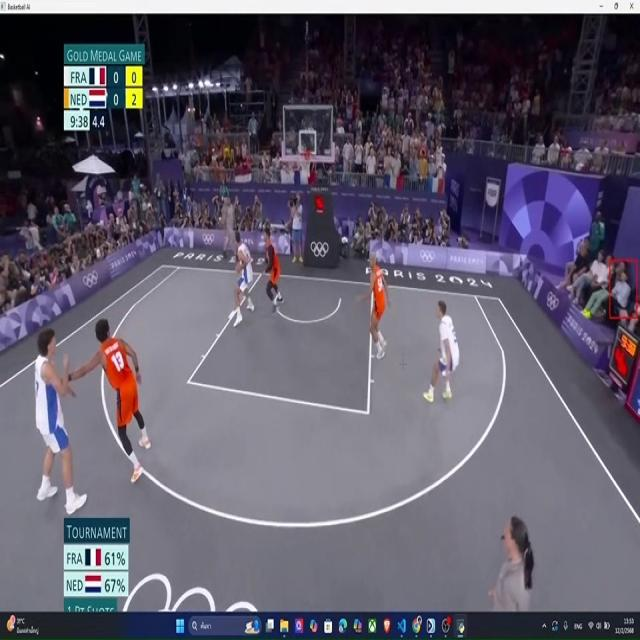basketball: (235, 262, 240, 274)
hoop: (299, 147, 311, 177)
